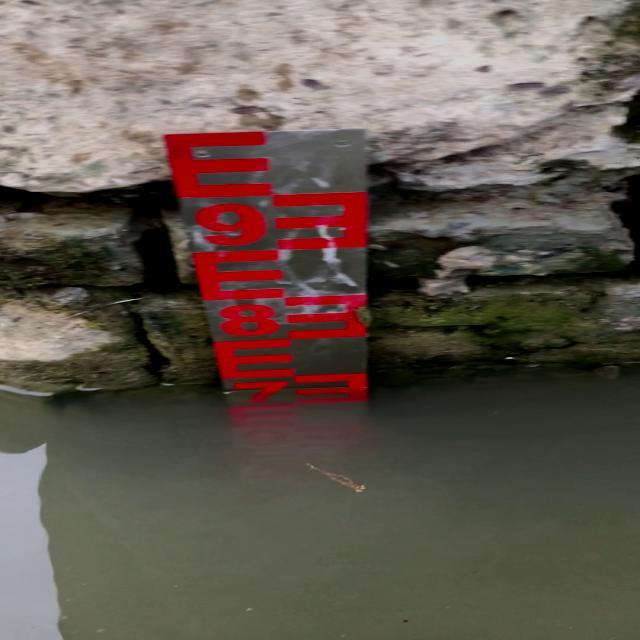ruler: (146, 116, 396, 408)
value: (185, 194, 278, 253), (202, 296, 288, 345)
